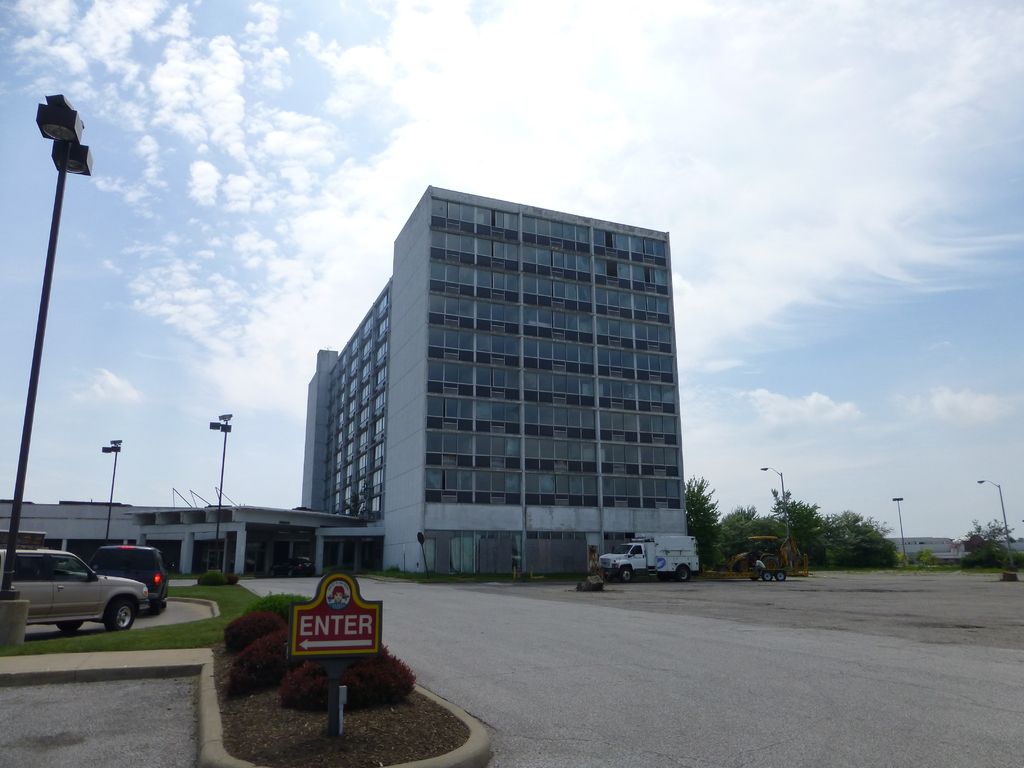Car: (0, 549, 147, 631), (95, 542, 172, 607)
